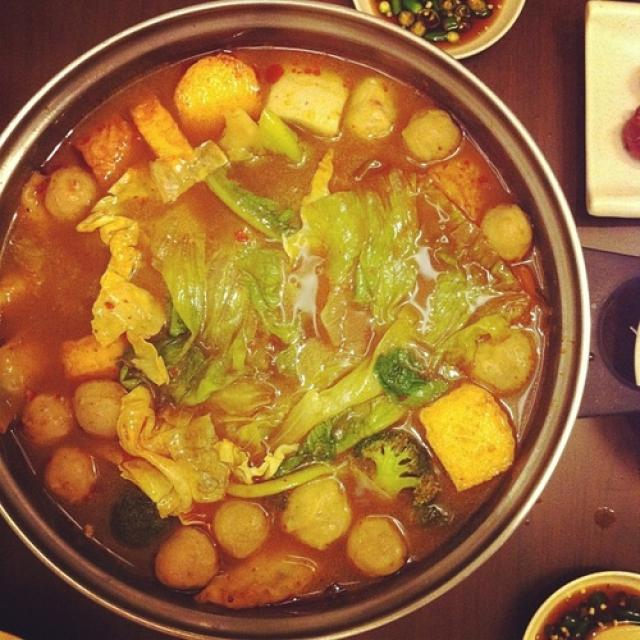汤锅炖物: (9, 23, 594, 623)
